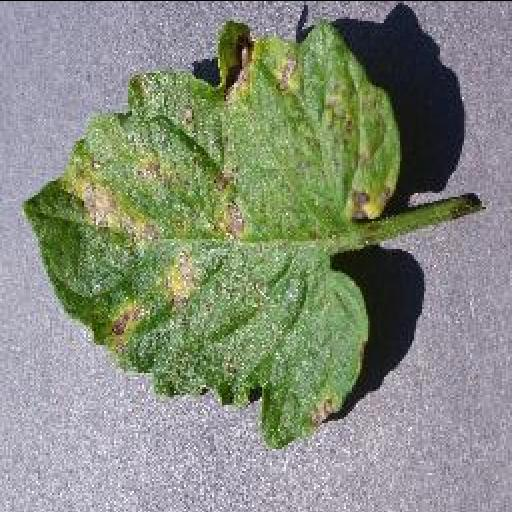disease_tomato: (20, 18, 400, 442)
